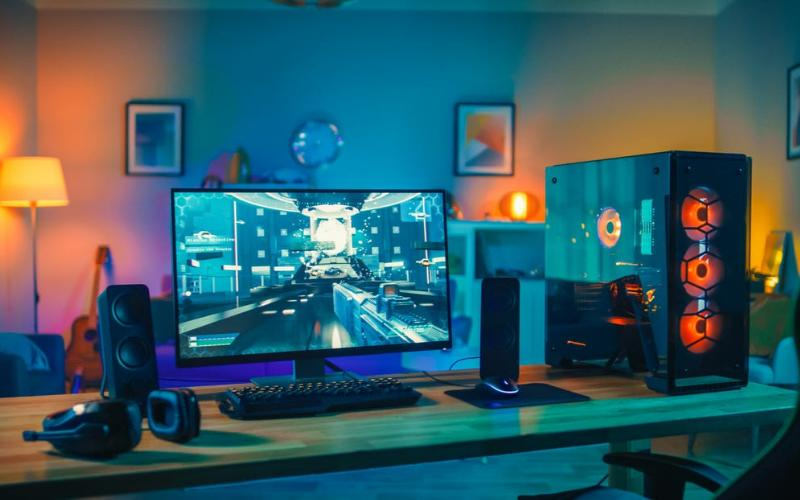head_phone: (9, 383, 207, 464)
keyboard: (209, 372, 431, 419)
monitor: (165, 177, 460, 367)
mouse: (467, 369, 529, 402)
pc: (536, 138, 761, 405)
speaker: (85, 274, 167, 416), (477, 267, 529, 395)
